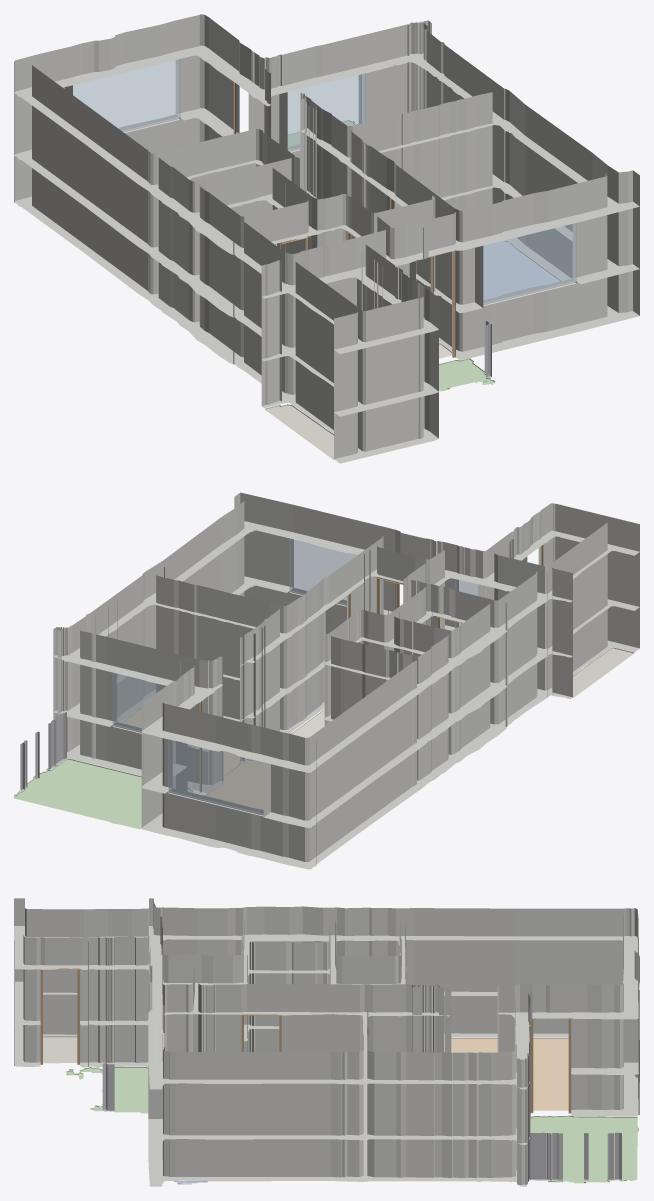
3 renders of one model, top to bottom at view 1: azimuth 30°, elevation 25°; view 2: azimuth 150°, elevation 25°; view 3: azimuth 270°, elevation 25°, orthographic. The views are drawn at different scales.
Parts seen in each view (by area): view 1: walls, window_10, window_8, window_9, floor_6_Bed_Room, floor_11_Storage, floor_1_Outdoor; view 2: walls, floor_2_Outdoor, window_8, window_10, window_9, floor_4_Living_Room, railings, floor_11_Storage; view 3: walls, floor_2_Outdoor, floor_4_Living_Room, railings, floor_1_Outdoor, floor_12_Storage, door_0, door_7.
Boxes of the visible parts, box(x1,y1,x2,y2) form: walls: box(14, 14, 639, 463); window_10: box(479, 223, 576, 303); window_8: box(73, 55, 180, 131); window_9: box(284, 73, 365, 150); floor_6_Bed_Room: box(483, 241, 560, 299); floor_11_Storage: box(265, 404, 334, 459); floor_1_Outdoor: box(439, 358, 495, 391); walls: box(53, 492, 639, 869); floor_2_Outdoor: box(14, 758, 193, 829); window_8: box(168, 739, 263, 814); window_10: box(289, 538, 357, 604); window_9: box(112, 672, 165, 731); floor_4_Living_Room: box(205, 759, 263, 809); railings: box(20, 712, 66, 791); floor_11_Storage: box(573, 647, 634, 697); walls: box(14, 898, 639, 1186); floor_2_Outdoor: box(530, 1115, 638, 1183); floor_4_Living_Room: box(444, 1038, 568, 1110); railings: box(102, 1063, 621, 1180); floor_1_Outdoor: box(79, 1067, 148, 1113); floor_12_Storage: box(43, 1036, 77, 1063); door_0: box(530, 1018, 570, 1113); door_7: box(40, 968, 79, 1064).
Bounding box in the file's own units: 7.56 × 2.72 × 12.24.
